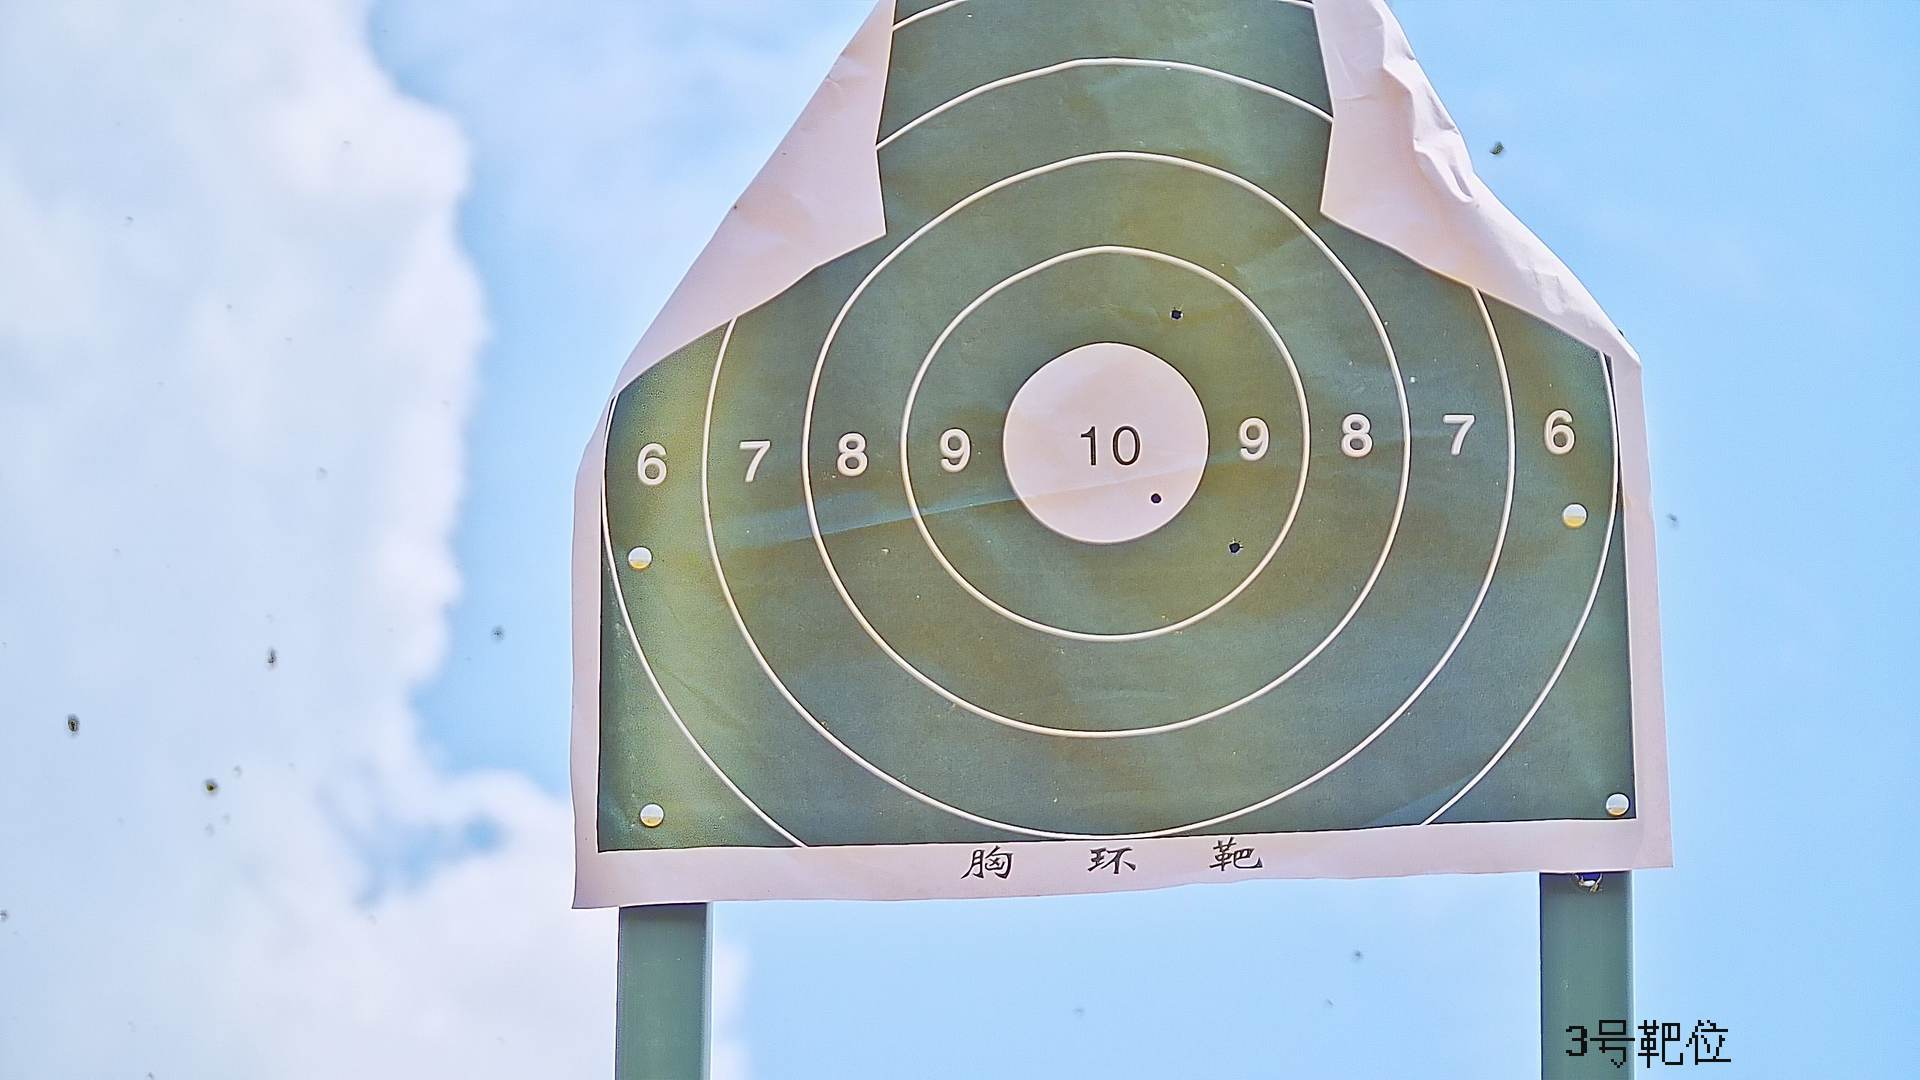hole: (1168, 306, 1182, 319), (1228, 539, 1240, 551), (1151, 491, 1159, 501)
kernel: (1102, 444, 1105, 448)
target: (596, 1, 1633, 832)
ten: (1000, 335, 1213, 545)
